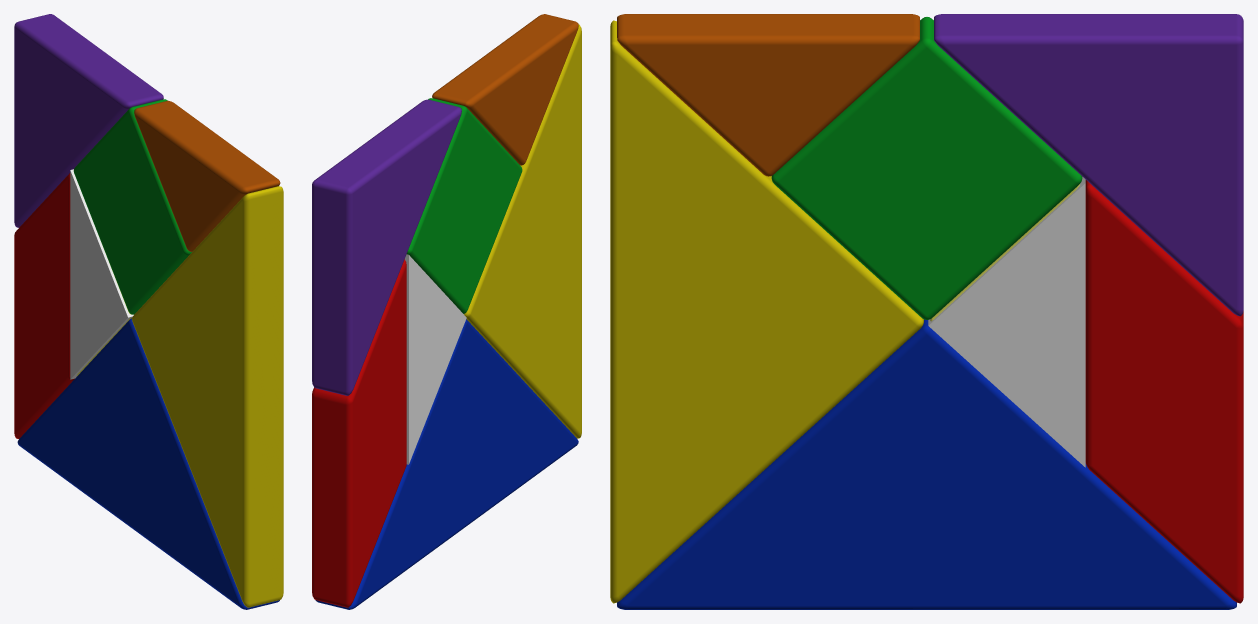
The model's file is TangantEdited.fbx.
The picture shows the model from 3 angles, left to right: view 1: azimuth 30°, elevation 25°; view 2: azimuth 150°, elevation 25°; view 3: azimuth 270°, elevation 25°; orthographic projection. The views are drawn at different scales.
Parts seen in each view (by area): view 1: Piece.005, Piece.006, Piece.002, Piece.007, Piece.004, Piece.001, Piece.003_Colldier; view 2: Piece.005, Piece.006, Piece.002, Piece.004, Piece.007, Piece.001, Piece.003_Colldier; view 3: Piece.005, Piece.006, Piece.002, Piece.007, Piece.004, Piece.001, Piece.003_Colldier.
Part boxes in pixels (box(x1,y1,x2,y2)): Piece.005: box(132, 186, 283, 607); Piece.006: box(17, 318, 279, 609); Piece.002: box(14, 14, 163, 227); Piece.007: box(73, 99, 191, 314); Piece.004: box(14, 173, 74, 438); Piece.001: box(134, 100, 280, 251); Piece.003_Colldier: box(70, 169, 133, 379); Piece.005: box(464, 24, 581, 438); Piece.006: box(315, 319, 578, 609); Piece.002: box(312, 99, 461, 395); Piece.004: box(312, 259, 406, 607); Piece.007: box(407, 98, 522, 313); Piece.001: box(432, 14, 578, 165); Piece.003_Colldier: box(405, 254, 466, 464); Piece.005: box(610, 20, 923, 603); Piece.006: box(617, 319, 1236, 609); Piece.002: box(934, 14, 1243, 316); Piece.007: box(771, 17, 1082, 319); Piece.004: box(1085, 180, 1243, 603); Piece.001: box(617, 14, 919, 176); Piece.003_Colldier: box(928, 177, 1085, 467).
Size of what is drawn, in the model's own units: 60.45 by 600 by 600.
